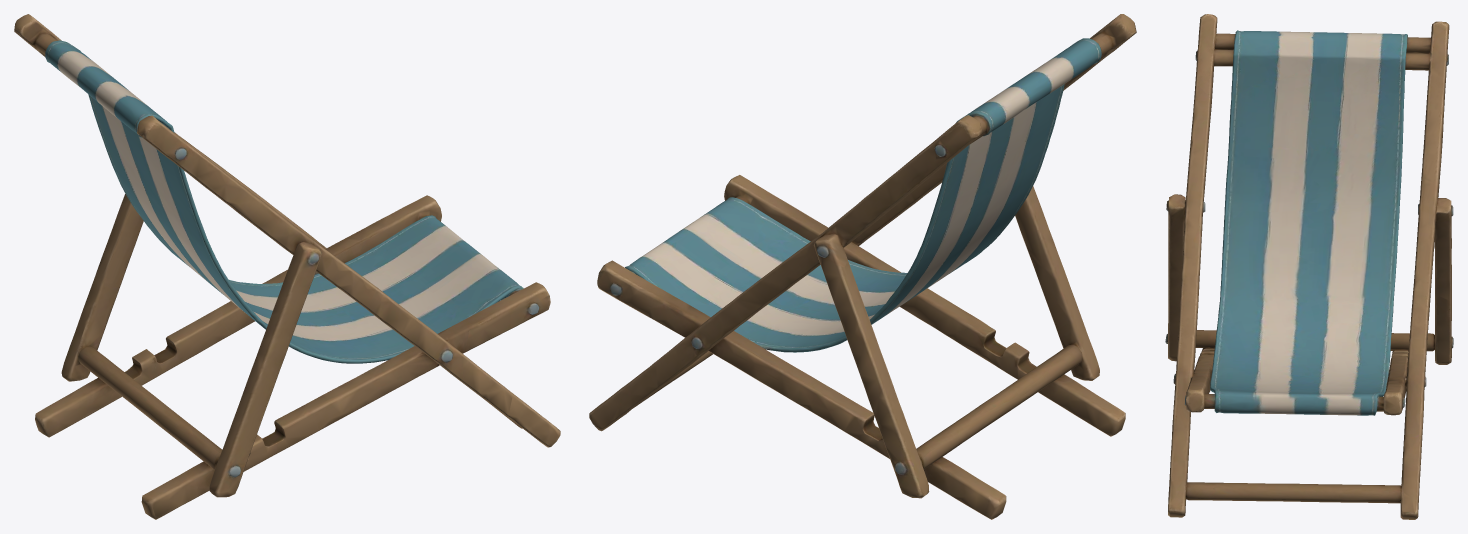
Rendered from reposera.glb.
The picture shows the model from 3 angles, left to right: view 1: azimuth 30°, elevation 25°; view 2: azimuth 150°, elevation 25°; view 3: azimuth 270°, elevation 25°; orthographic projection. The views are drawn at different scales.
Visible parts, largest first — view 1: tripo_node_bd53b09d-c5d3-4fd4-b864-7ad592809287; view 2: tripo_node_bd53b09d-c5d3-4fd4-b864-7ad592809287; view 3: tripo_node_bd53b09d-c5d3-4fd4-b864-7ad592809287.
Boxes of the visible parts, x1,y1,x2,y2 form: tripo_node_bd53b09d-c5d3-4fd4-b864-7ad592809287: (14, 14, 560, 519); tripo_node_bd53b09d-c5d3-4fd4-b864-7ad592809287: (589, 14, 1136, 519); tripo_node_bd53b09d-c5d3-4fd4-b864-7ad592809287: (1165, 14, 1453, 519).
Bounding box in the file's own units: 1 × 0.9523 × 0.7173.
Materials: 1 (1 with a texture image).
